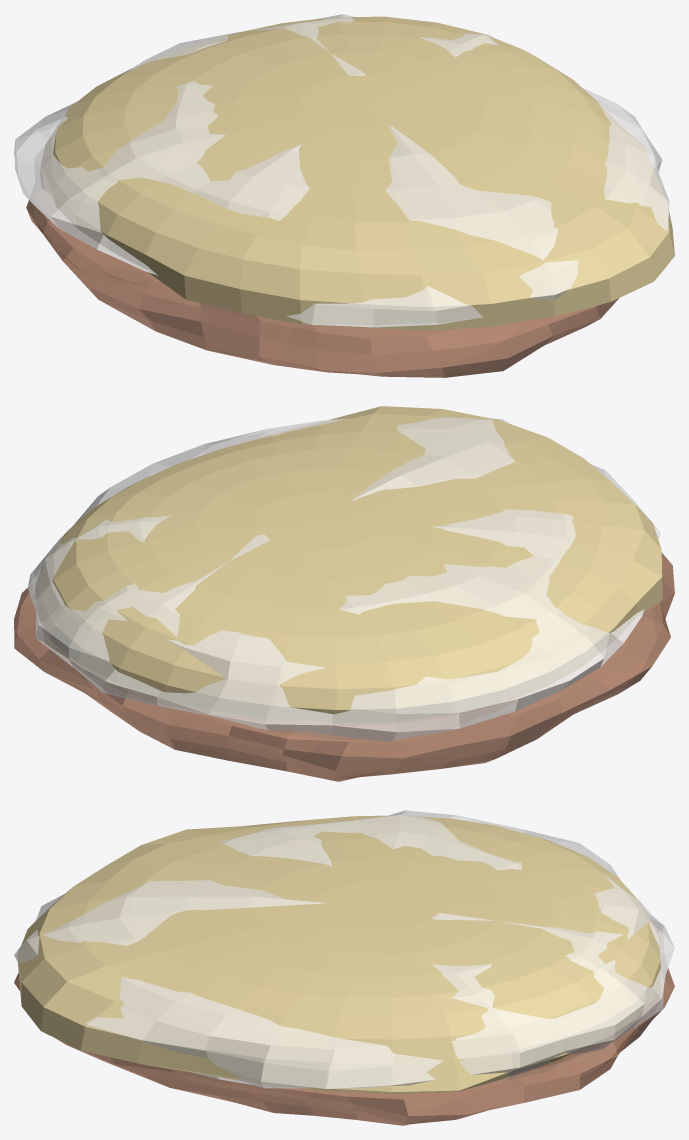
Rendered from rawChicken_v1_FlourEggBread.fbx.
The picture shows the model from 3 angles, top to bottom: view 1: azimuth 30°, elevation 25°; view 2: azimuth 150°, elevation 25°; view 3: azimuth 270°, elevation 25°; orthographic projection. The views are drawn at different scales.
Visible parts, largest first — view 1: Sphere, flour, flour.001; view 2: Sphere, flour, flour.001; view 3: Sphere, flour, flour.001.
Part boxes in pixels (<box>): Sphere: <box>43,16,674,330</box>; flour: <box>14,14,669,327</box>; flour.001: <box>26,149,618,377</box>; Sphere: <box>35,406,662,722</box>; flour: <box>28,417,660,741</box>; flour.001: <box>14,552,674,781</box>; Sphere: <box>17,815,661,1093</box>; flour: <box>14,810,674,1088</box>; flour.001: <box>14,920,674,1125</box>.
Bounding box in the file's own units: 136 × 37.93 × 147.
